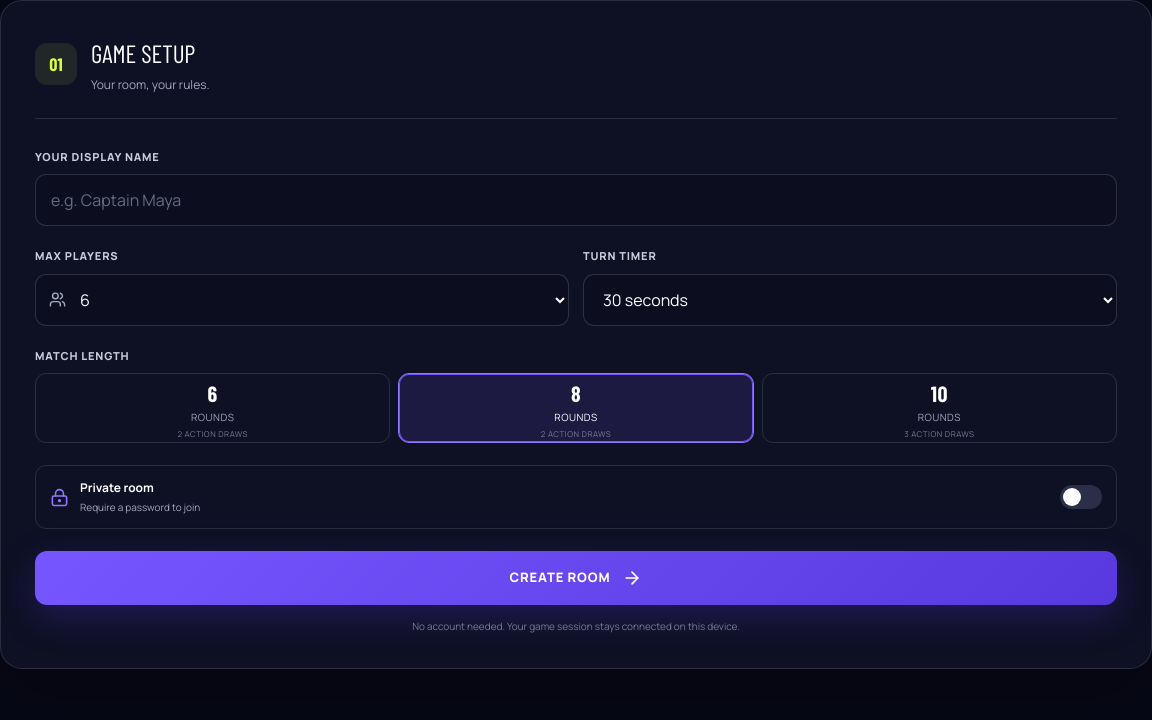
CreateGameForm › rejects an invalid display name
Step 1. Type "A" into the field labelled "Your display name" → (576,200), box [35,174,1117,226]
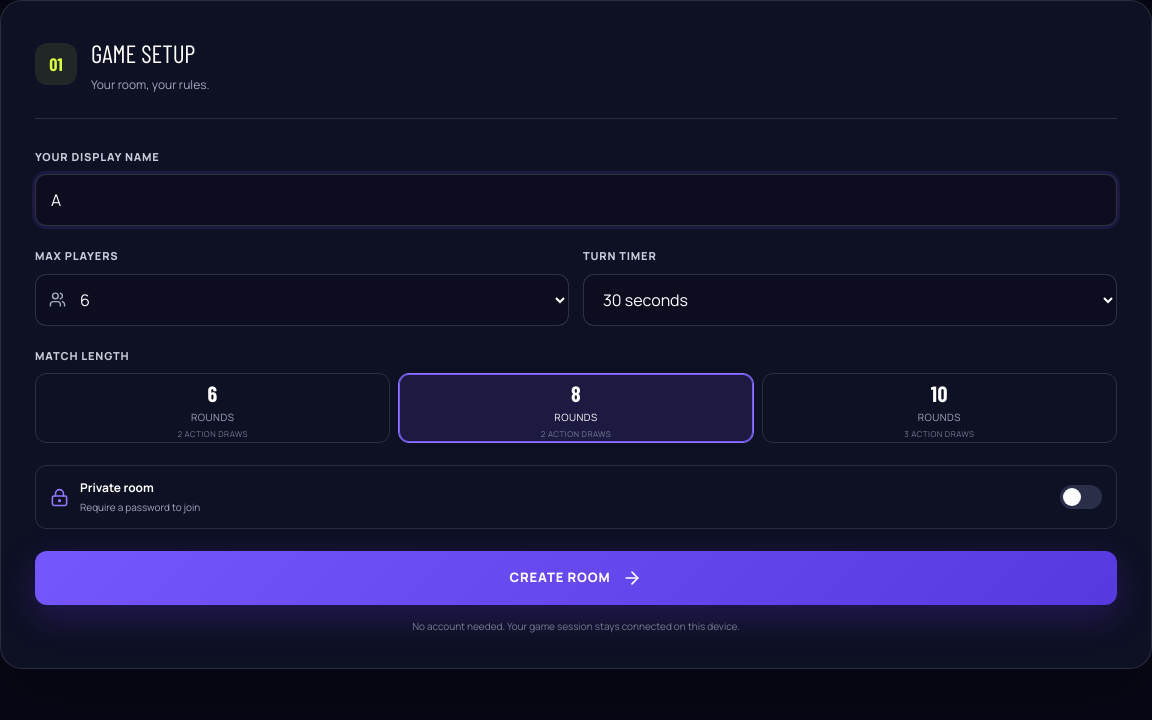
Step 2. Click the button "Create room" → (576,578), box [35,551,1117,605]
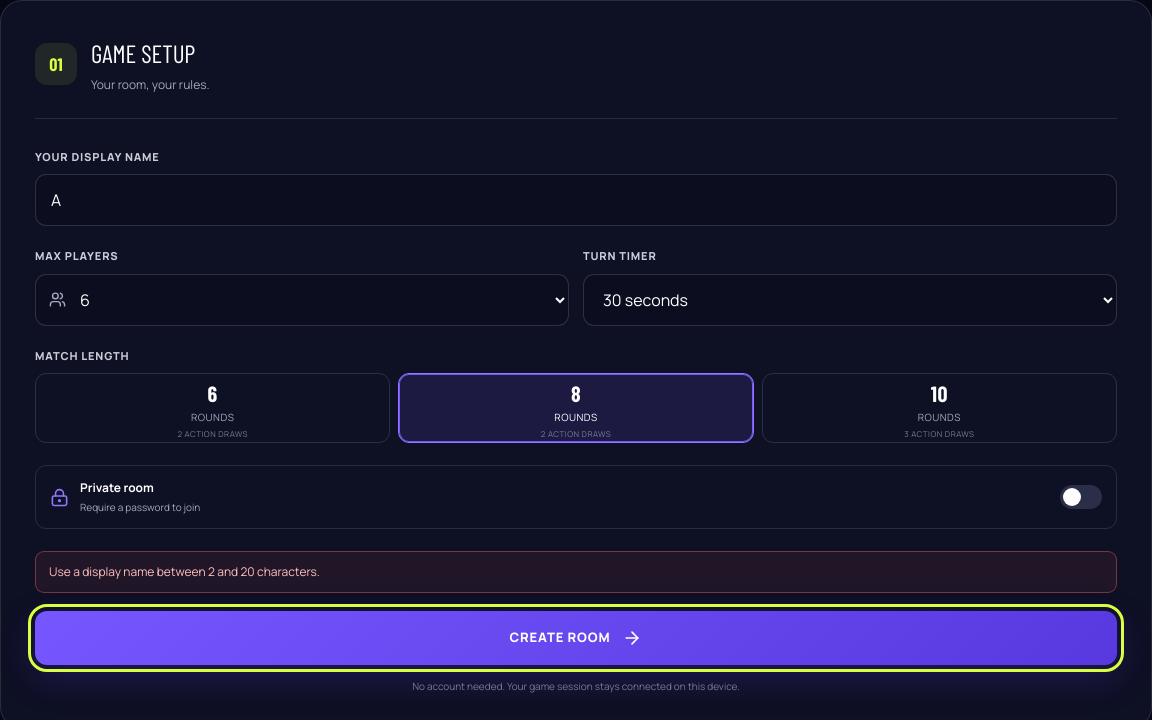
Now the message shows "between 2 and 20", box [49,563,320,580]
